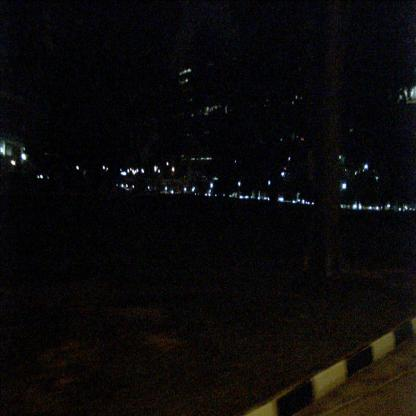human-pedestrian-adult: (300, 121, 332, 282)
